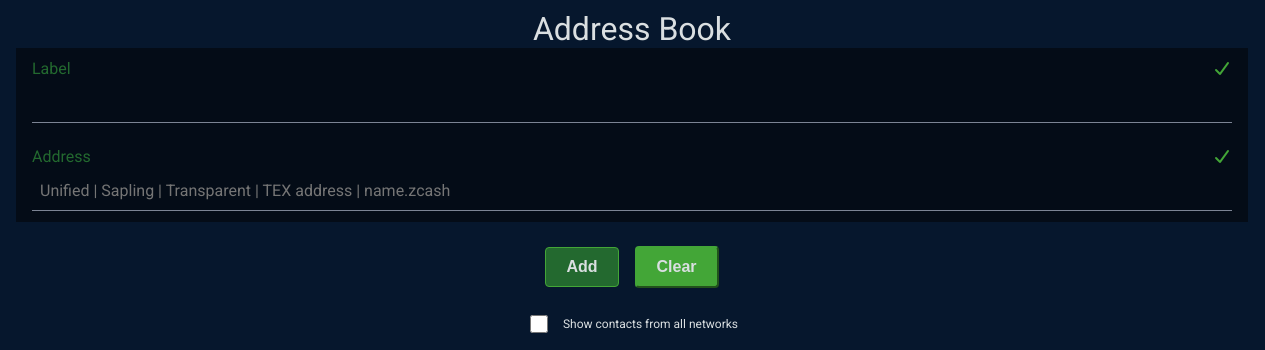
AddressBook › shows 'Invalid Address' when address is unrecognized
In the field labelled "Unified | Sapling | Transparent | TEX address | name.zcash": (632, 190) [32,170,1232,211], type "garbage"
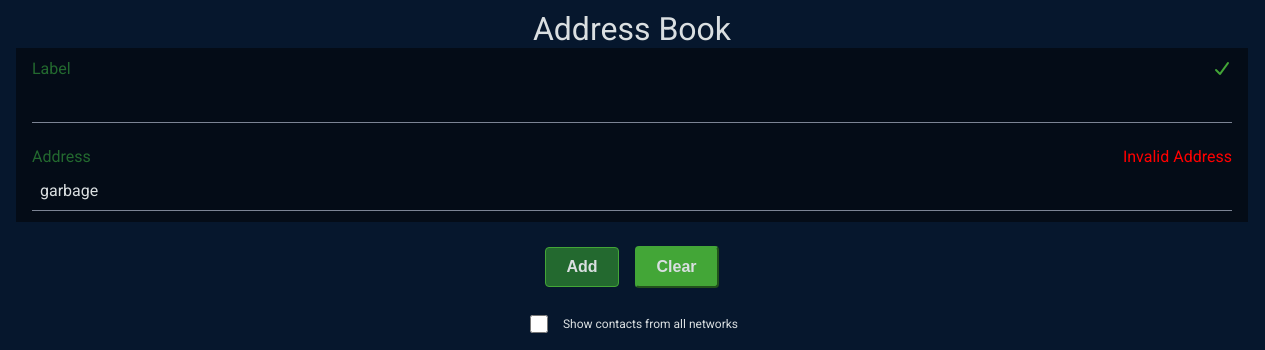
Expected: the text "Invalid Address" is shown, [1123,147,1232,166]
